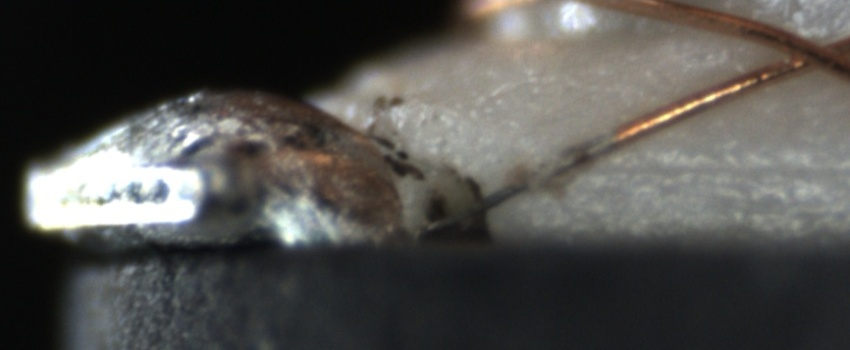CL: (770, 25, 846, 76)
DL: (601, 135, 850, 188)
TS: (418, 133, 614, 236)
TTCW: (413, 89, 715, 229)
